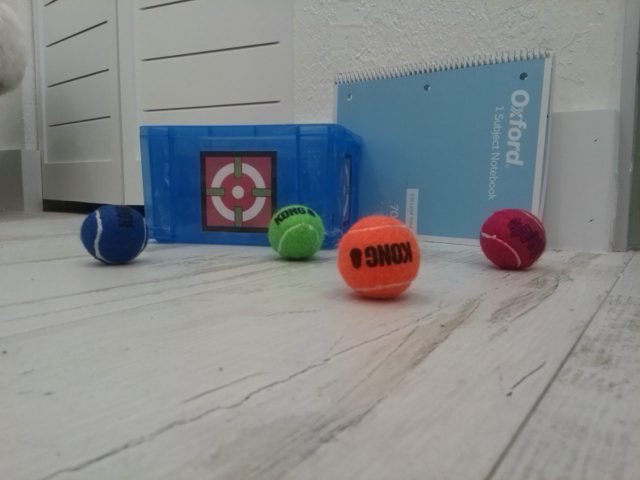blue-ball: (79, 202, 150, 265)
drop-bin: (199, 149, 278, 233)
green-ball: (267, 204, 325, 261)
orange-ball: (336, 213, 422, 301)
red-ball: (479, 207, 547, 270)
